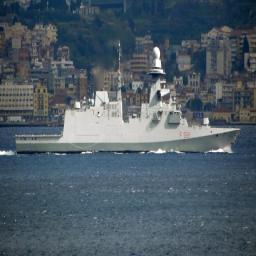Fragata: (13, 39, 243, 157)
